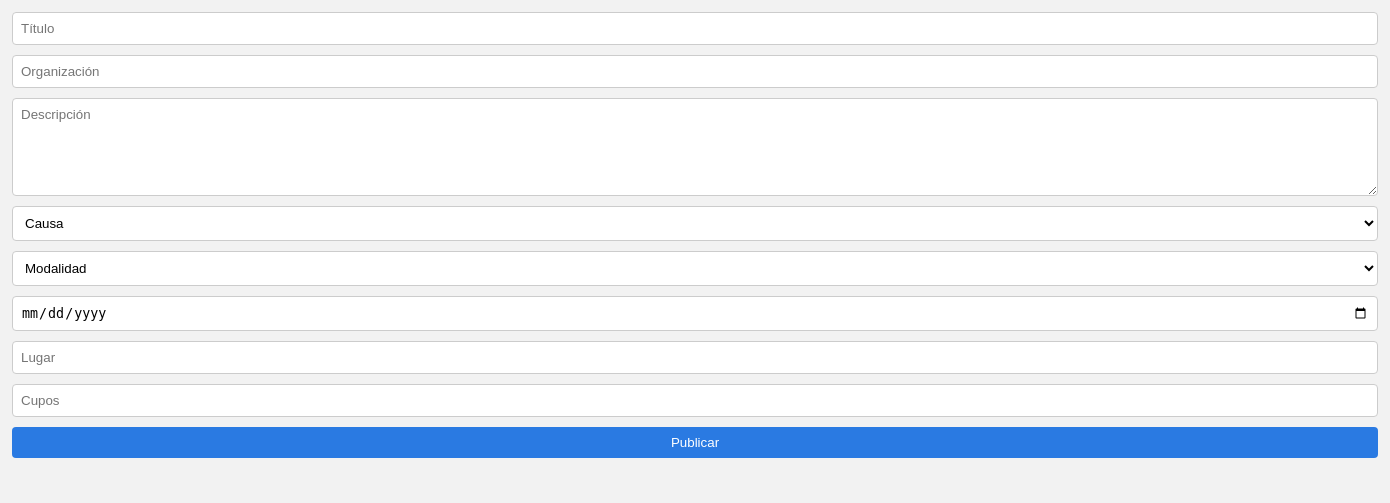
Test: AnuncioForm › muestra un error si se envía con campos vacíos
Click the button "Publicar". click: (695, 443)
box: 12,427 -> 1378,458
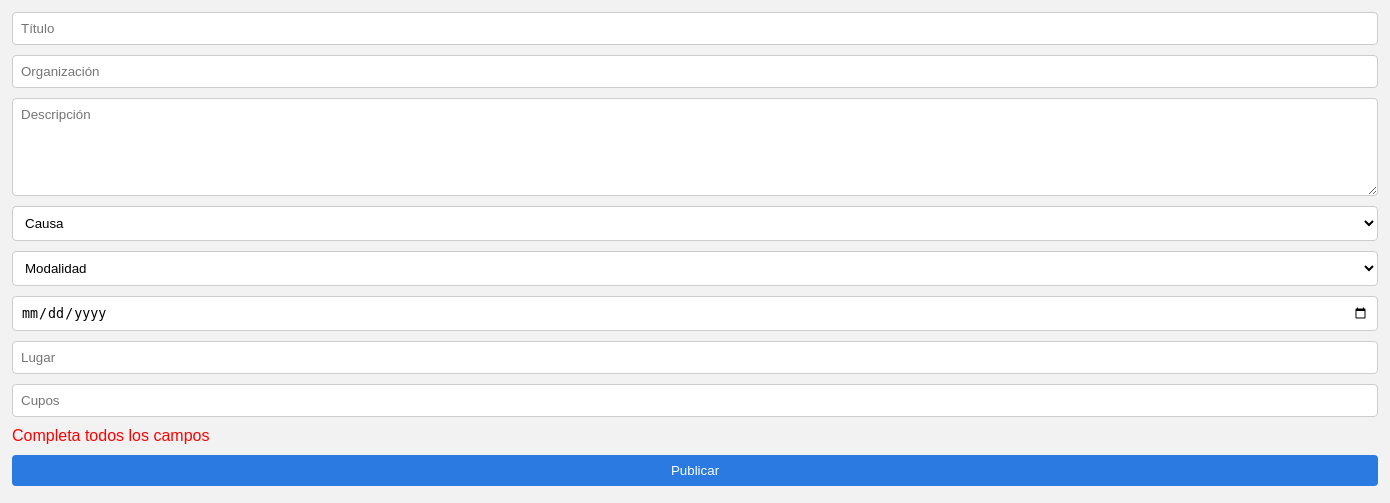
Expected: the text "Completa todos los campos" is shown, 12,427 -> 209,444
